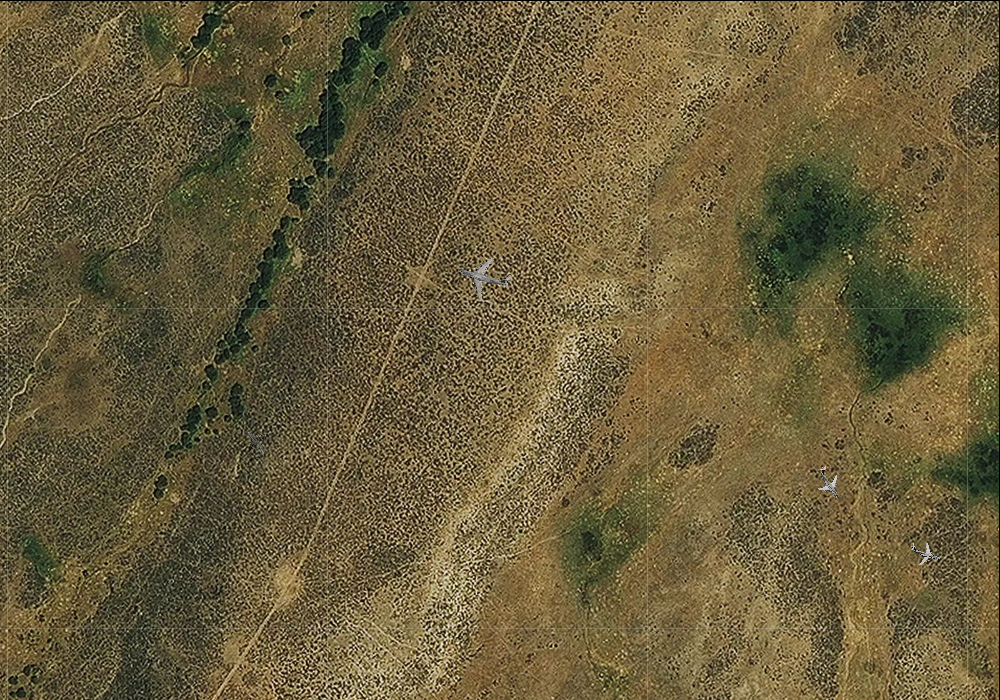plane: (452, 244, 517, 308), (808, 460, 852, 505), (235, 422, 276, 464), (906, 535, 944, 571)
